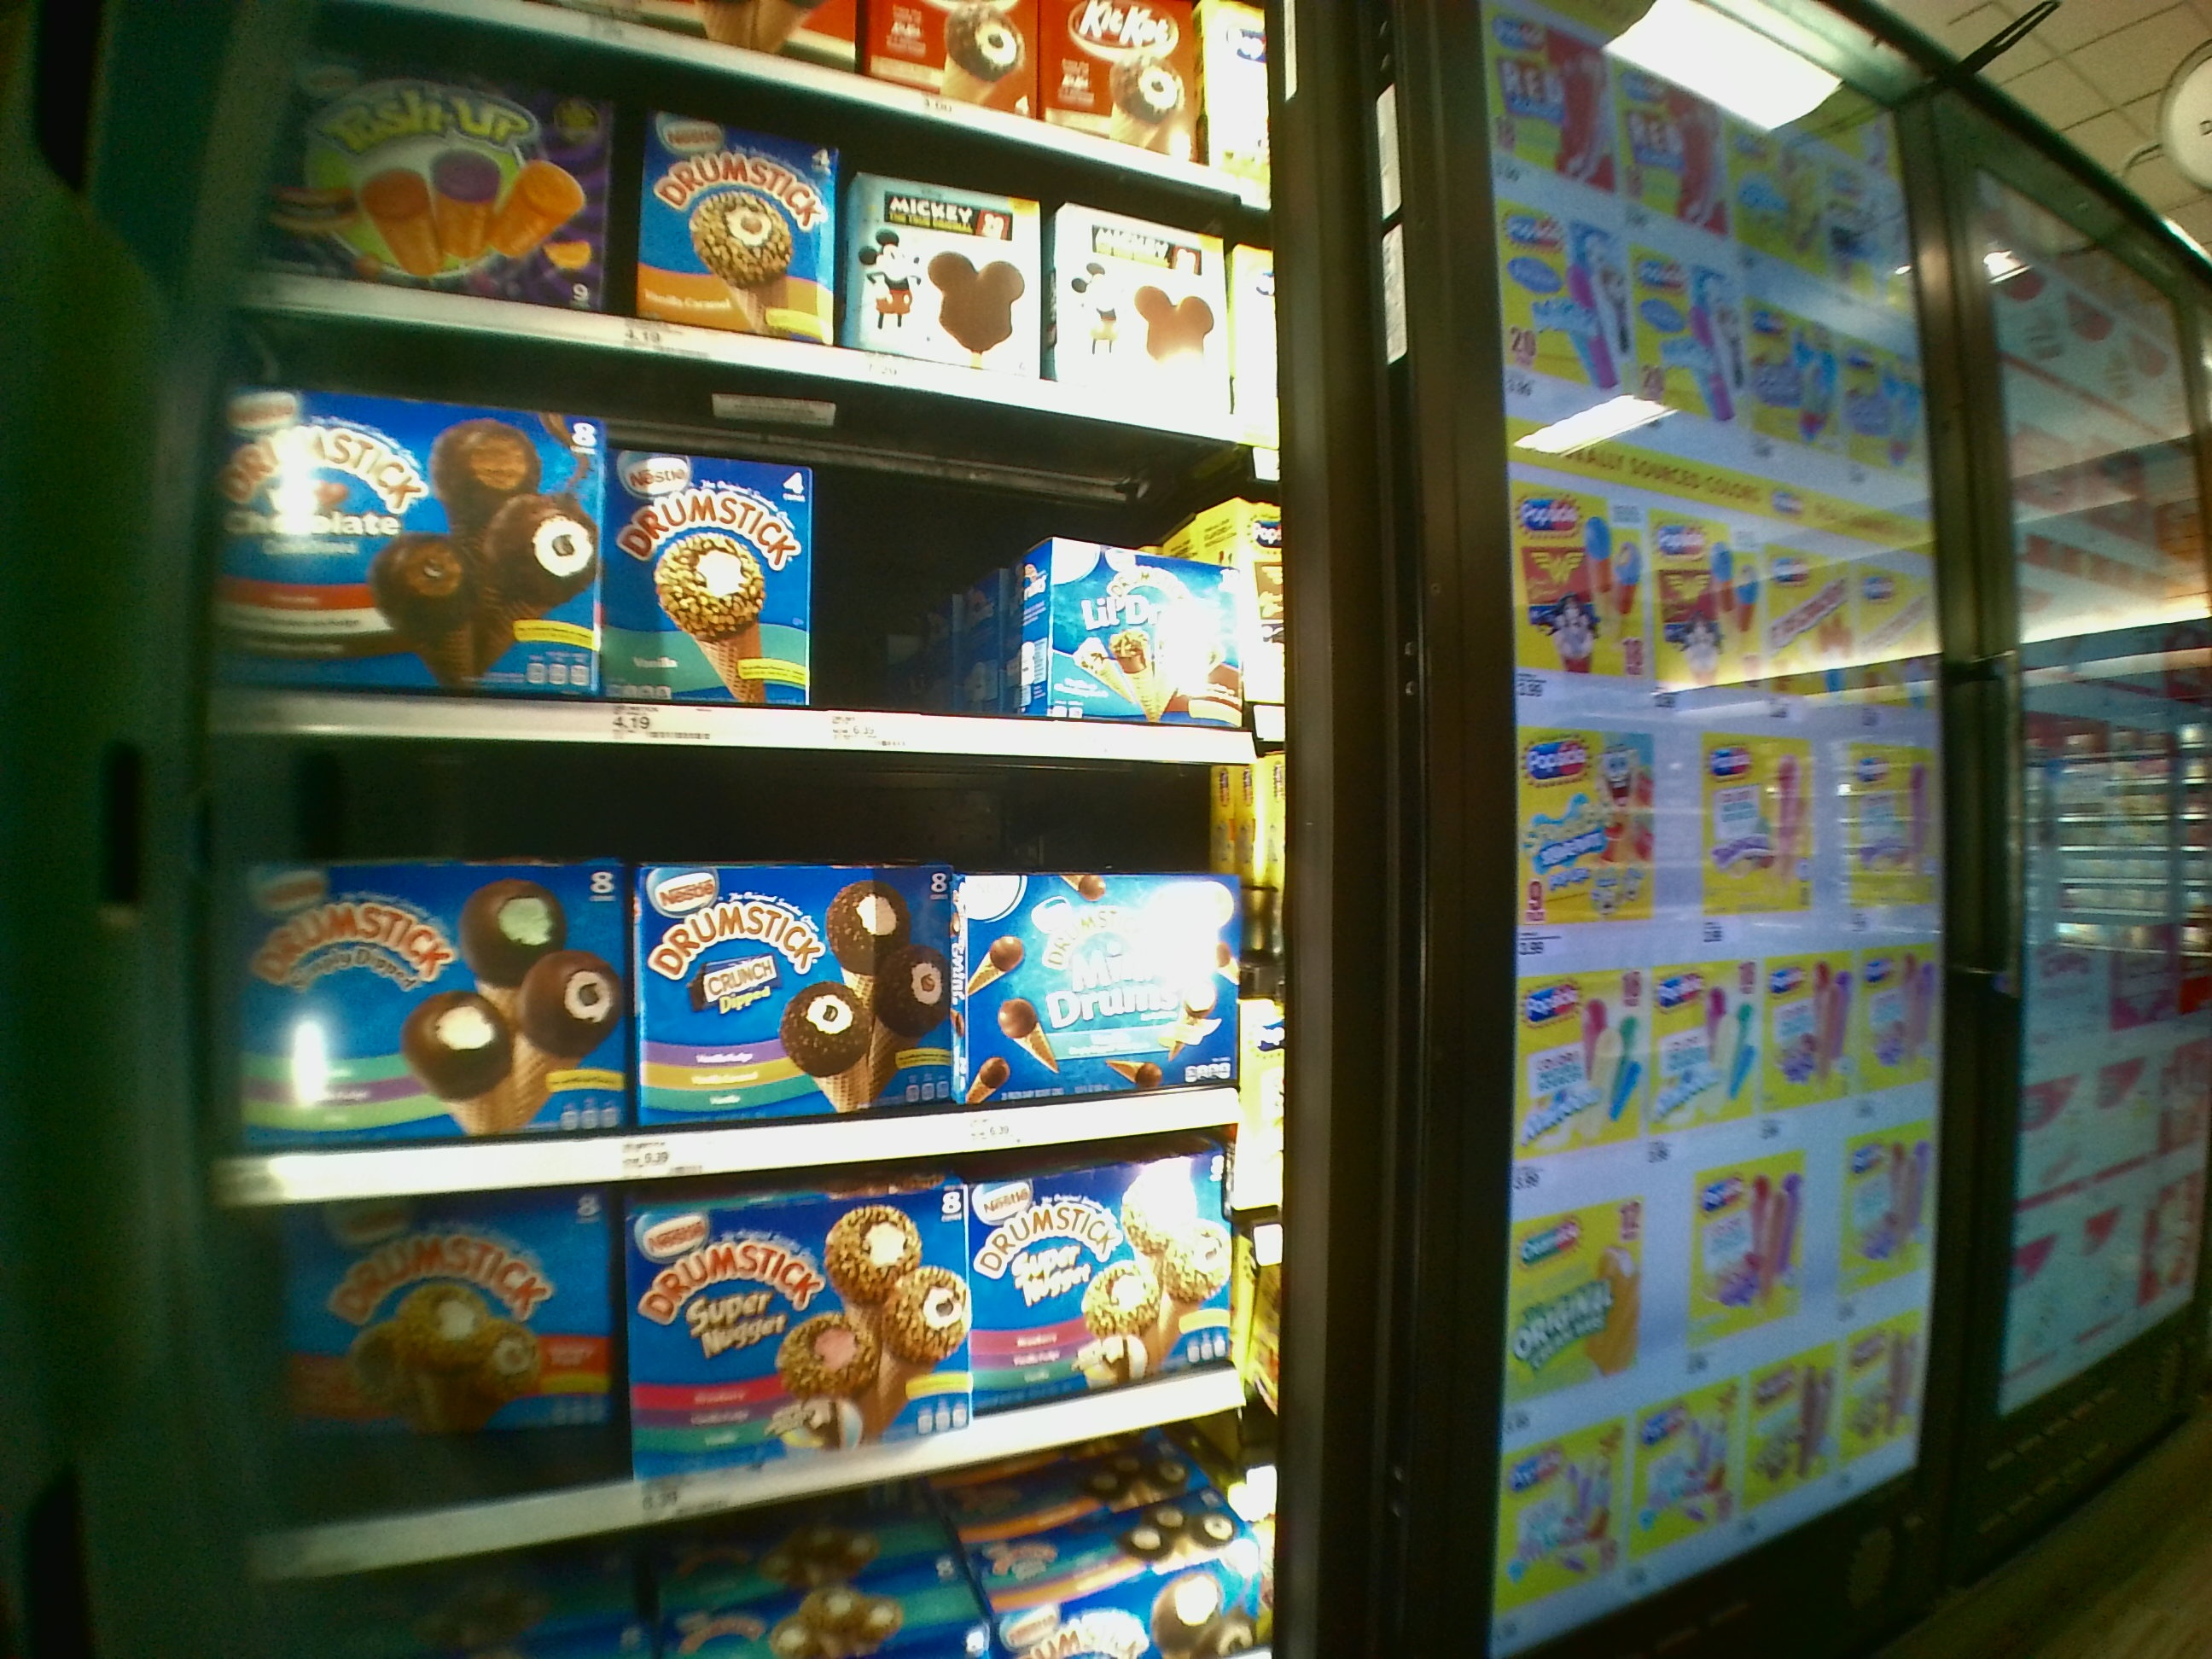shelf: (216, 741, 1289, 1175), (216, 396, 1273, 762), (235, 1150, 1270, 1499)
